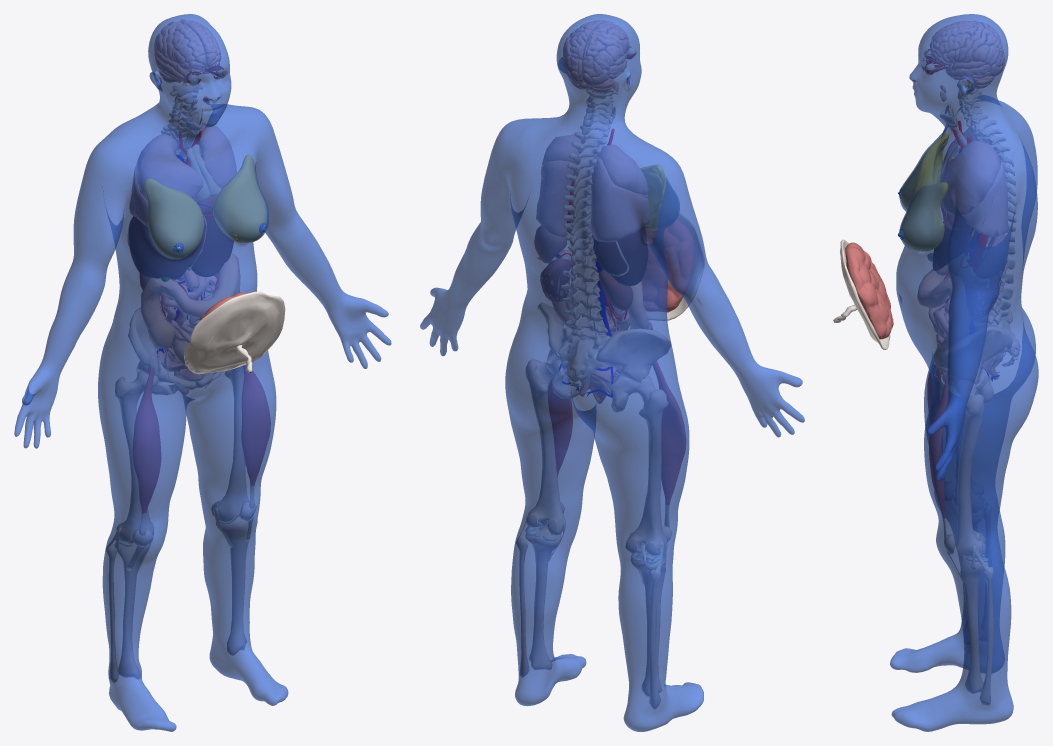
Rendered from anatomy.glb.
The picture shows the model from 3 angles, left to right: view 1: azimuth 30°, elevation 25°; view 2: azimuth 150°, elevation 25°; view 3: azimuth 270°, elevation 25°; orthographic projection.
Visible parts, largest first — view 1: VH_F_skin, VH_F_amnion, VH_F_fat_R, VH_F_fat_L, VH_F_rectus_femoris_R, VH_F_rectus_femoris_L, VH_F_capsule_of_the_liver, VH_F_femur_R, VH_F_tibia_L, VH_F_femur_L, VH_F_tibia_R, VH_F_right_anterior_bronchopulmonary_segm (+7 smaller); view 2: VH_F_skin, VH_F_basal_plate, VH_F_femur_R, VH_F_femur_L, VH_F_ilium_compact_bone_R, VH_F_rectus_femoris_R, VH_F_tibia_L, VH_F_sacrum, VH_F_tibia_R, VH_F_rectus_femoris_L, VH_F_amnion, VH_F_right_superior_bronchopulmonary_segment (+14 smaller); view 3: VH_F_skin, VH_F_femur_L, VH_F_fat_L, VH_F_basal_plate, VH_F_tibia_L, VH_F_fat_R, VH_F_rectus_femoris_L, VH_F_ilium_compact_bone_L, VH_F_fibula_L, VH_F_left_anterior_bronchopulmonary_segment, VH_F_amnion, VH_F_transverse_colon (+9 smaller).
Part boxes in pixels (x1,y1,x2,y2): VH_F_skin: (14,14,391,731); VH_F_amnion: (184,291,285,374); VH_F_fat_R: (144,178,203,258); VH_F_fat_L: (213,155,266,242); VH_F_rectus_femoris_R: (133,367,161,513); VH_F_rectus_femoris_L: (241,365,270,486); VH_F_capsule_of_the_liver: (129,215,233,279); VH_F_femur_R: (115,370,158,541); VH_F_tibia_L: (216,513,248,655); VH_F_femur_L: (211,366,248,521); VH_F_tibia_R: (115,542,149,679); VH_F_right_anterior_bronchopulmonary_segm: (140,155,202,198); VH_F_skin: (420,14,804,731); VH_F_basal_plate: (641,219,694,312); VH_F_femur_R: (629,376,668,553); VH_F_femur_L: (525,359,563,533); VH_F_ilium_compact_bone_R: (596,329,670,382); VH_F_rectus_femoris_R: (652,361,685,505); VH_F_tibia_L: (525,527,561,669); VH_F_sacrum: (558,327,610,381); VH_F_tibia_R: (631,551,665,696); VH_F_rectus_femoris_L: (548,380,572,476); VH_F_amnion: (647,212,704,320); VH_F_right_superior_bronchopulmonary_segment: (591,157,633,209); VH_F_skin: (890,14,1038,731); VH_F_femur_L: (956,384,984,556); VH_F_fat_L: (901,182,947,251); VH_F_basal_plate: (845,242,893,338); VH_F_tibia_L: (960,554,988,693); VH_F_fat_R: (901,134,948,209); VH_F_rectus_femoris_L: (929,372,947,518); VH_F_ilium_compact_bone_L: (938,325,1012,384); VH_F_fibula_L: (980,567,993,705); VH_F_left_anterior_bronchopulmonary_segment: (948,150,992,202); VH_F_amnion: (840,239,890,349); VH_F_transverse_colon: (917,269,948,307).
Bounding box in the file's own units: 0.9676 × 1.67 × 0.4552.
